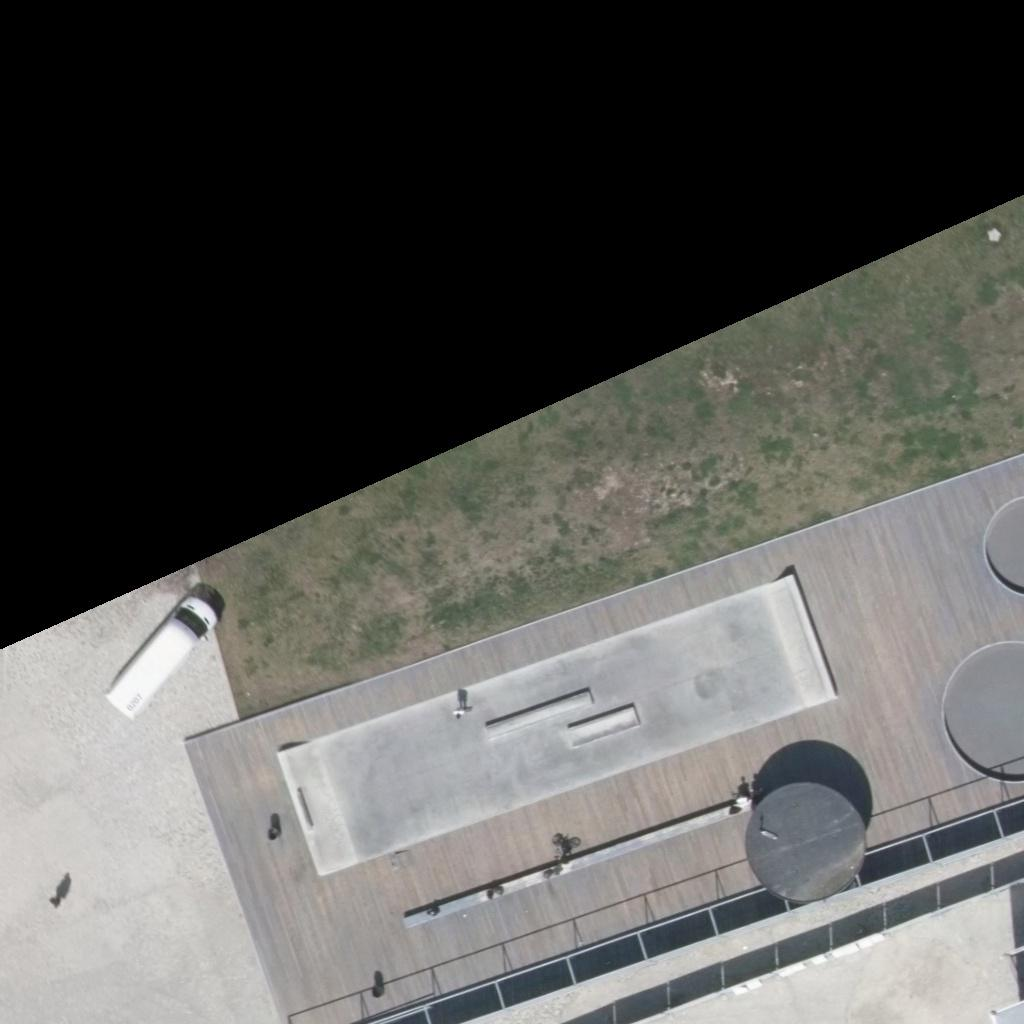bus: (107, 584, 224, 719)
pracownik: (50, 873, 69, 906)
